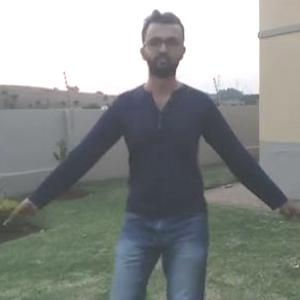land: (88, 68, 249, 295)
